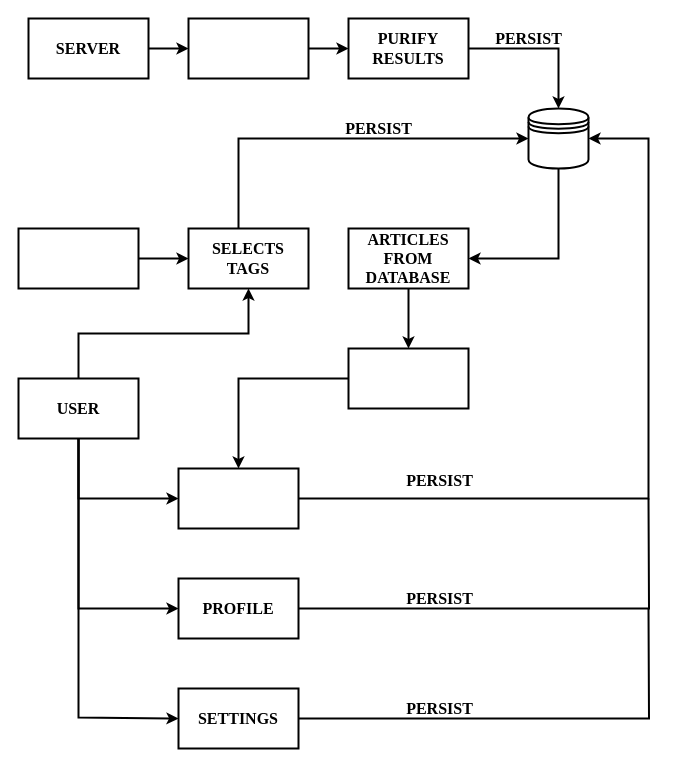
This 674x766 diagram has some shape labels left out. The box of each missing label's shape, as (x1, y1, x2, y2) in pixels:
ARTICLE: (347, 347, 469, 409)
COGNIFEED APP: (17, 227, 139, 289)
CRAWL WEBSITE: (187, 17, 309, 79)
HIDE / FAVOURITE: (177, 467, 299, 529)
